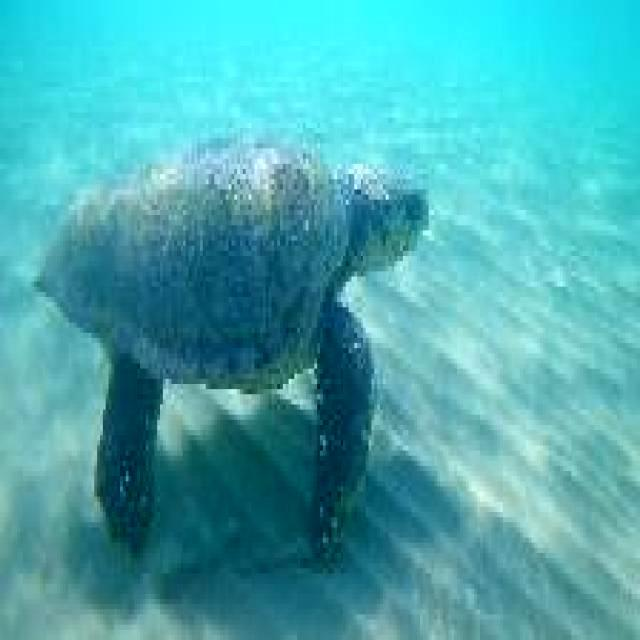Sea turtle: (31, 122, 443, 570)
